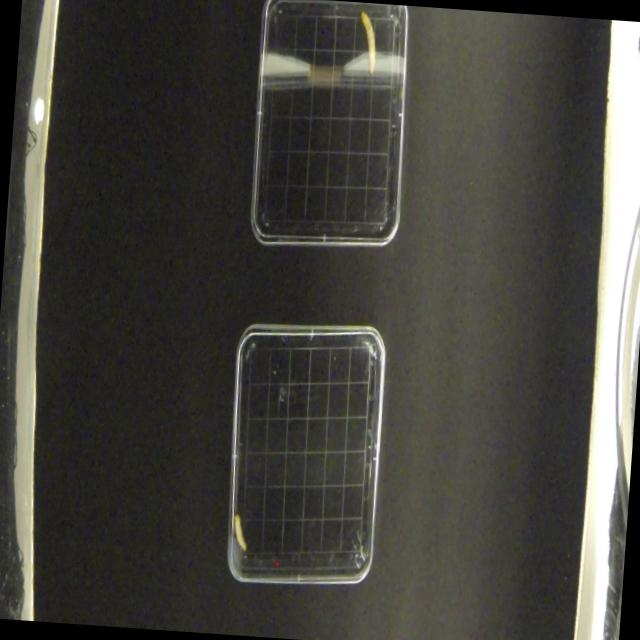larva: (354, 7, 380, 77), (230, 508, 250, 556)
